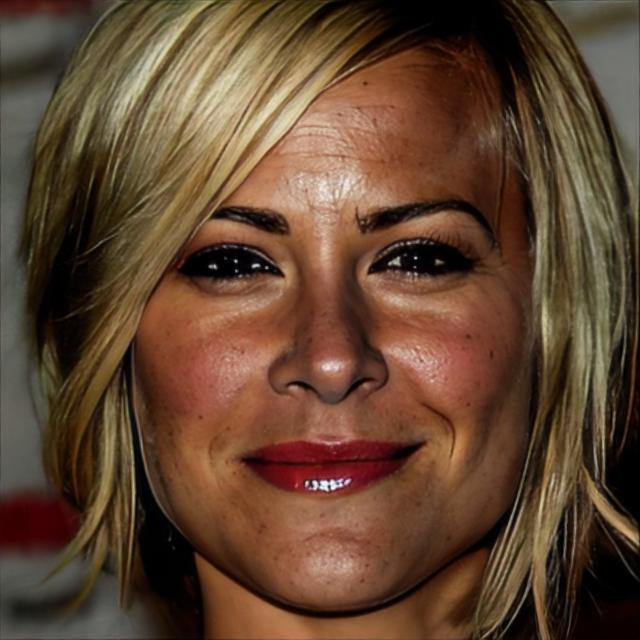happy: (126, 37, 534, 609)
